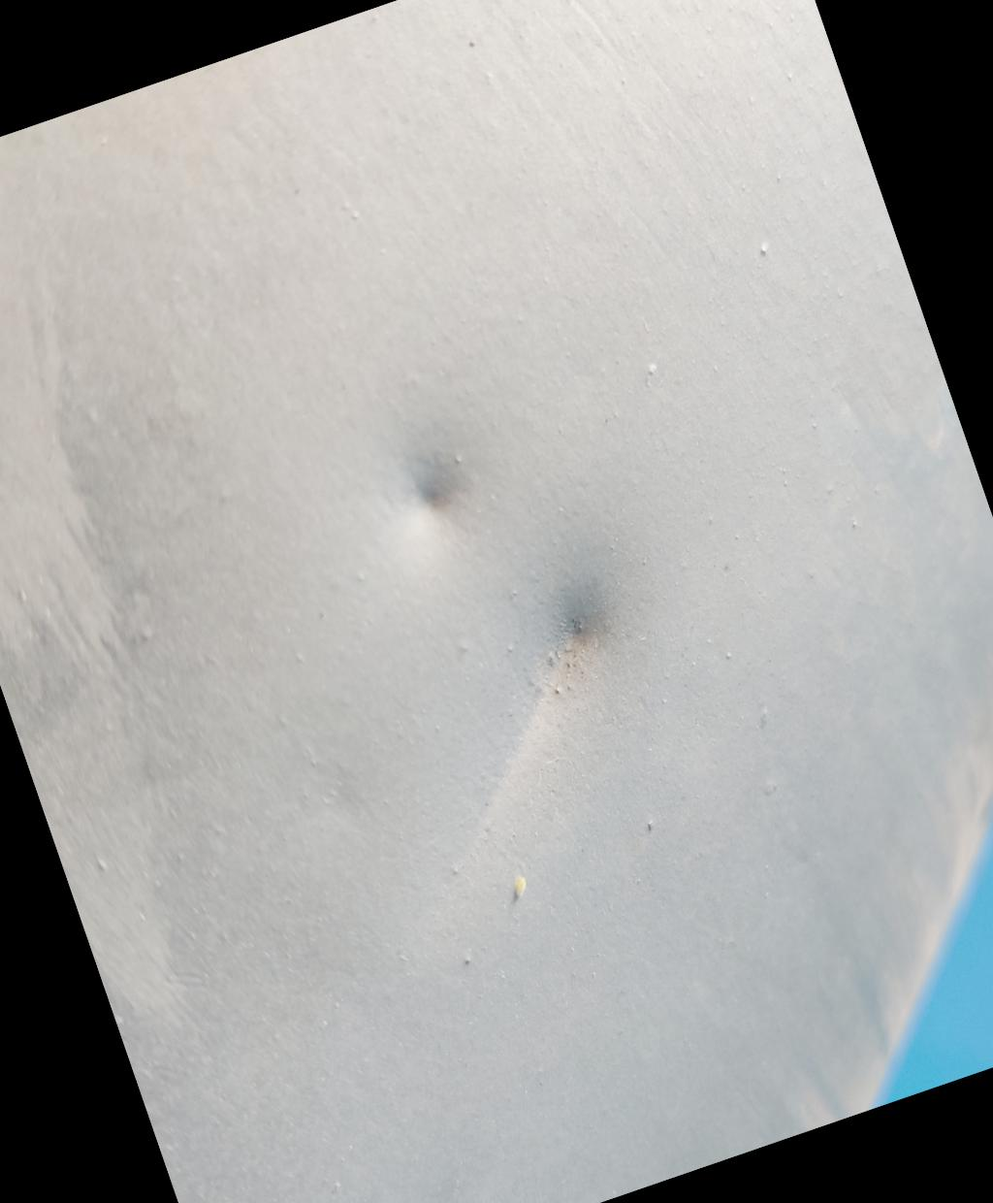dent: (376, 520, 711, 857), (352, 410, 512, 579)
